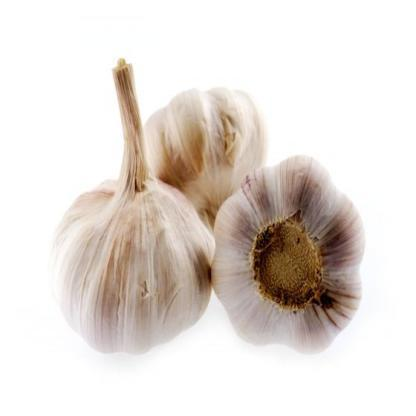garlic: (33, 159, 220, 364), (206, 173, 378, 364), (132, 78, 270, 212)
